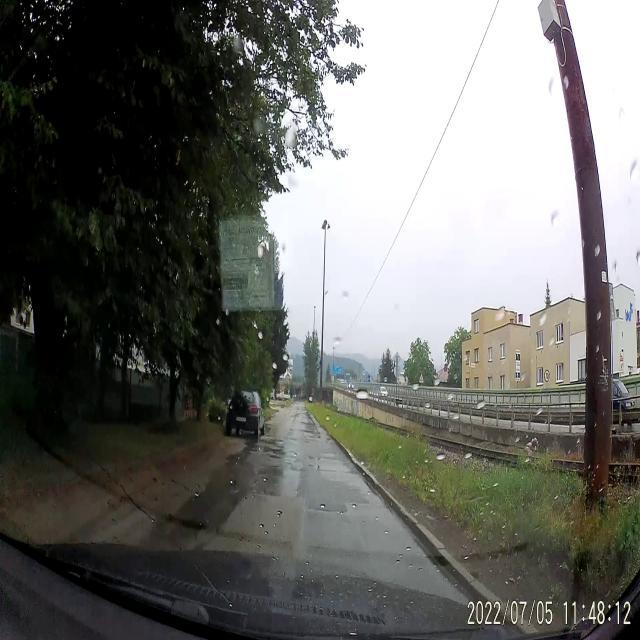Pothole: (304, 500, 344, 522), (267, 448, 285, 466)
